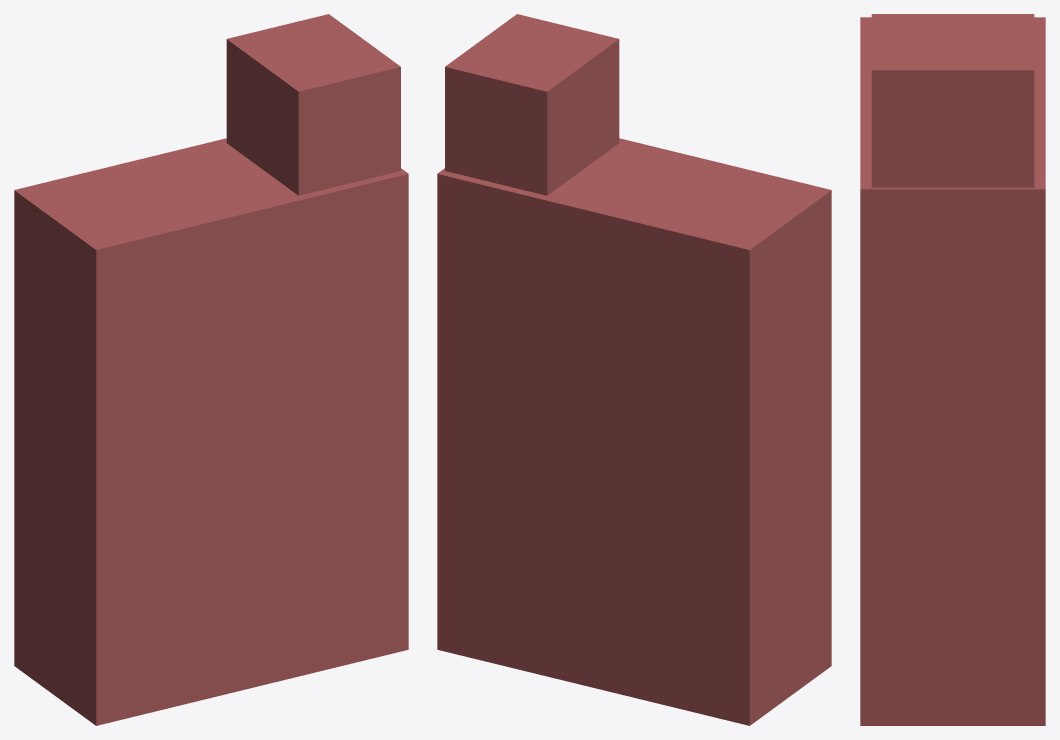
File: accordion.glb
The picture shows the model from 3 angles, left to right: view 1: azimuth 30°, elevation 25°; view 2: azimuth 150°, elevation 25°; view 3: azimuth 270°, elevation 25°; orthographic projection. The views are drawn at different scales.
Visible parts, largest first — view 1: accordion; view 2: accordion; view 3: accordion.
Part boxes in pixels (x1,y1,x2,y2): accordion: (14,14,408,725); accordion: (437,14,831,725); accordion: (860,14,1045,725).
Bounding box in the file's own units: 0.55 × 0.975 × 0.25.
